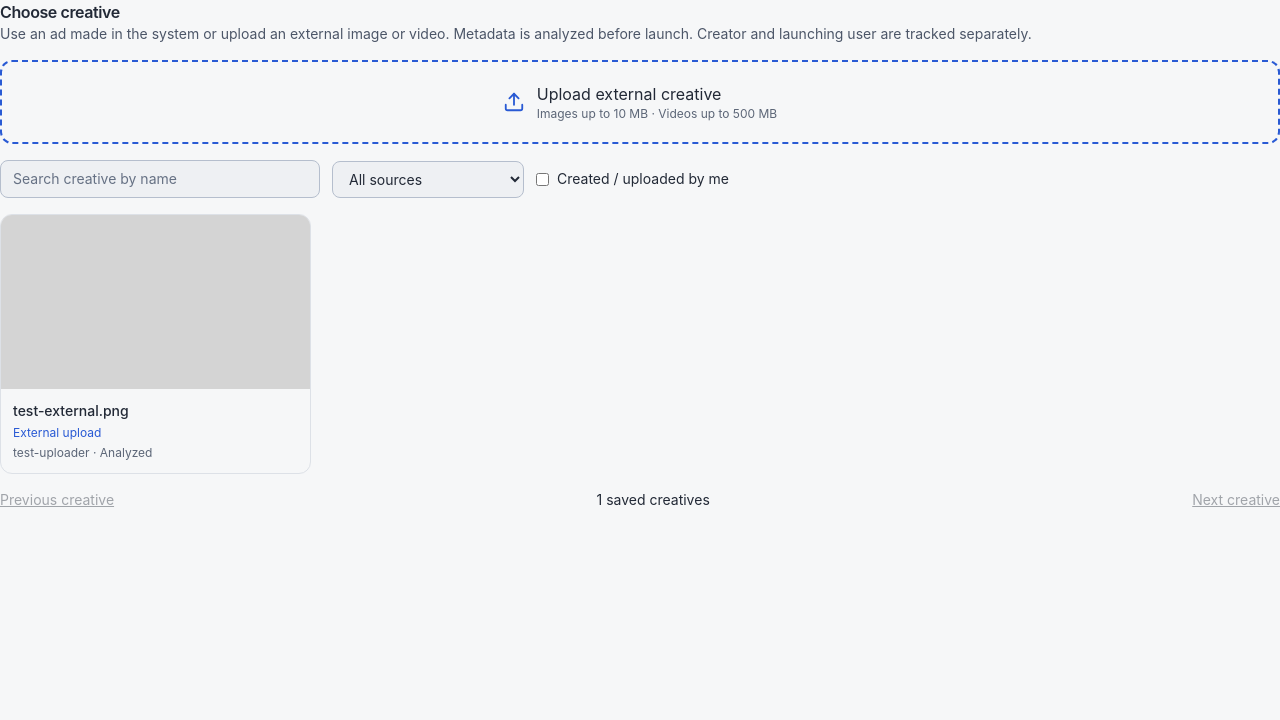
Test: shows read-only metadata for a creative owned by another user
Click the button with aria-label "Select test-external.png".
click(156, 344)  # box [0,214,311,474]
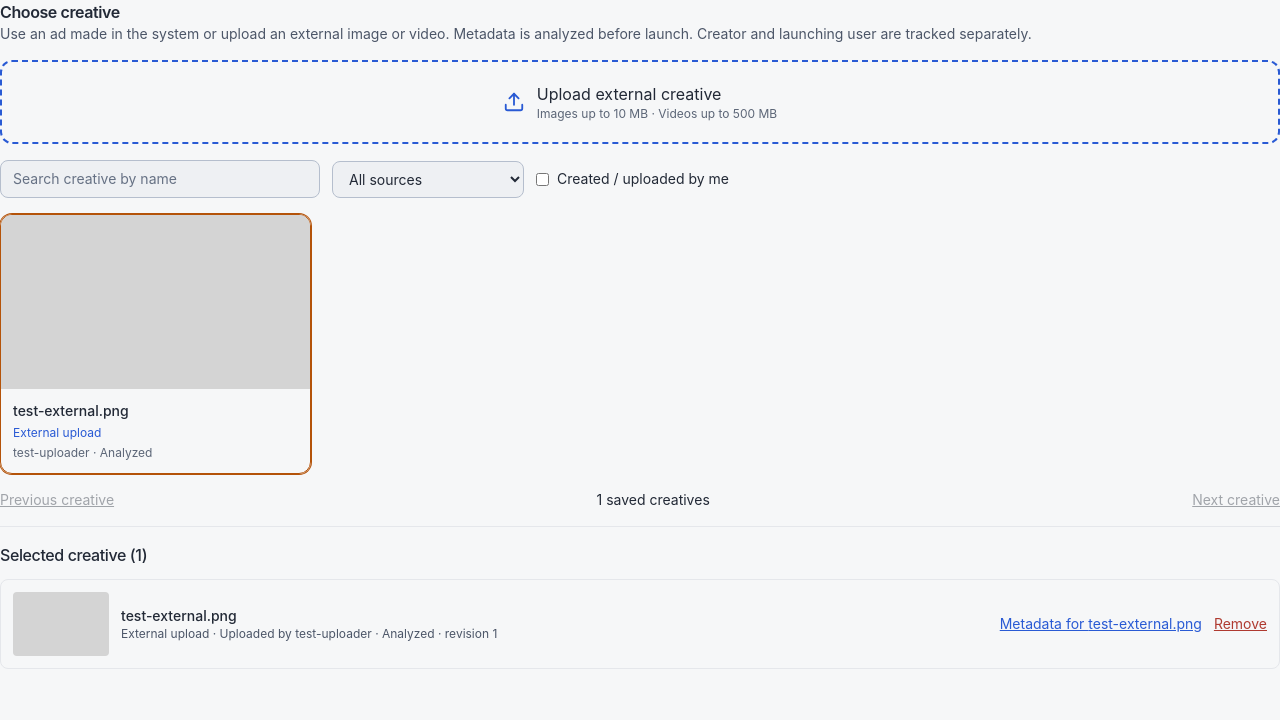
Click the button "Metadata for test-external.png".
click(1101, 624)  # box [1000,614,1202,634]
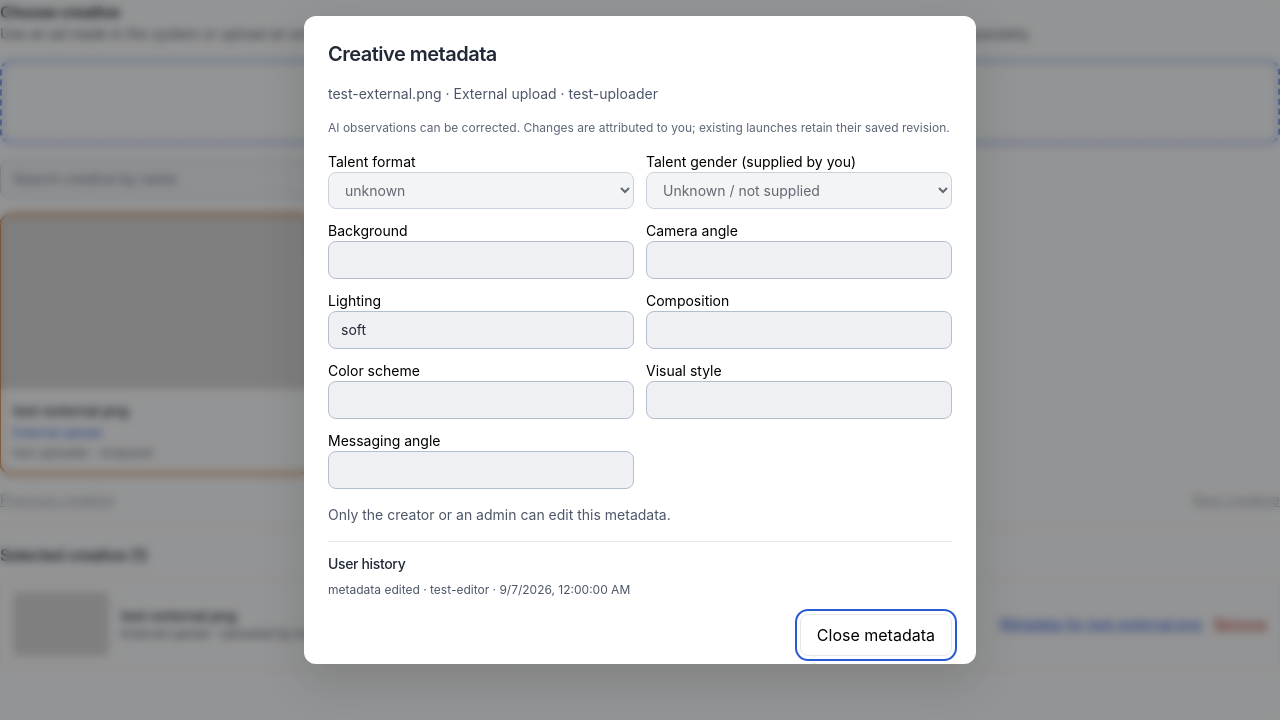
Expected: the field labelled "Lighting" is disabled, [328,311,634,349]
Expected: the list item "metadata edited · test-editor · 9/7/2026, 12:00:00 AM" is shown, [328,582,630,597]
